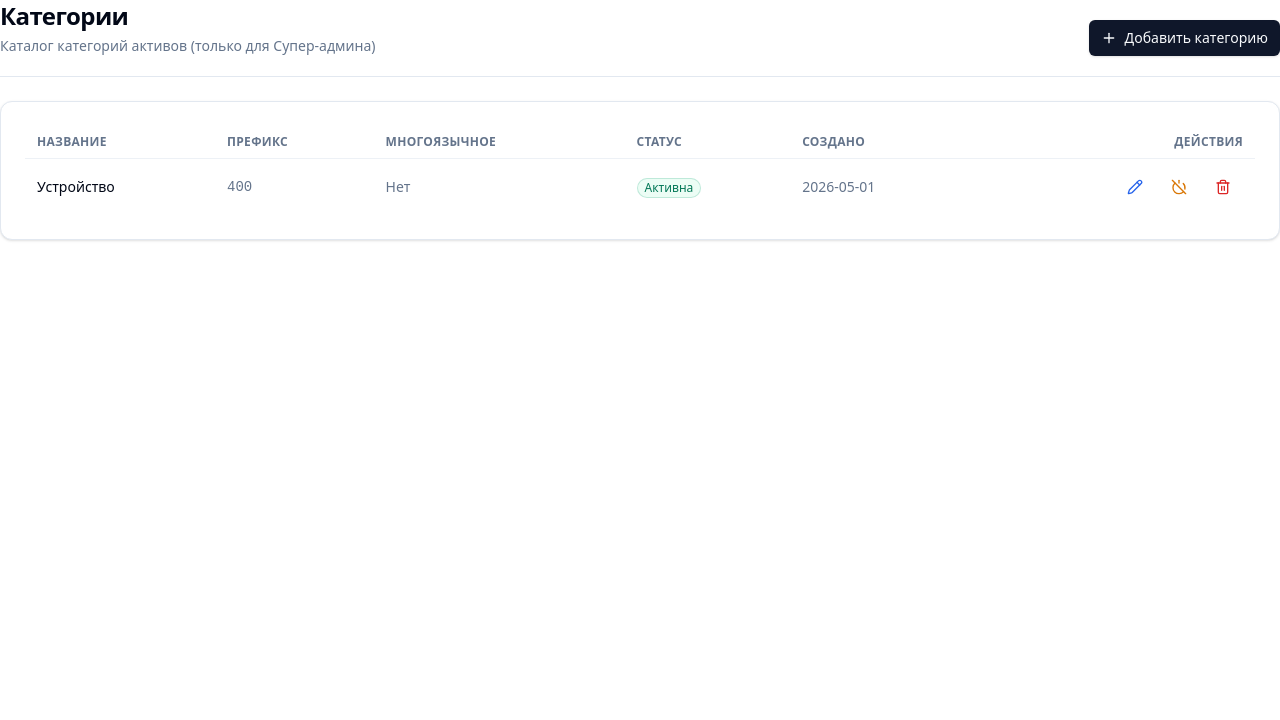
Test: CategoriesManagementPage › clicking the Delete icon opens the confirm modal with the localized title and body
The width and height of the screenshot is (1280, 720).
Check: the text "Устройство" is shown, box top-left (37, 177), bottom-right (115, 196)
Click the button named "Удалить" at (1223, 187), box top-left (1203, 167), bottom-right (1243, 207)
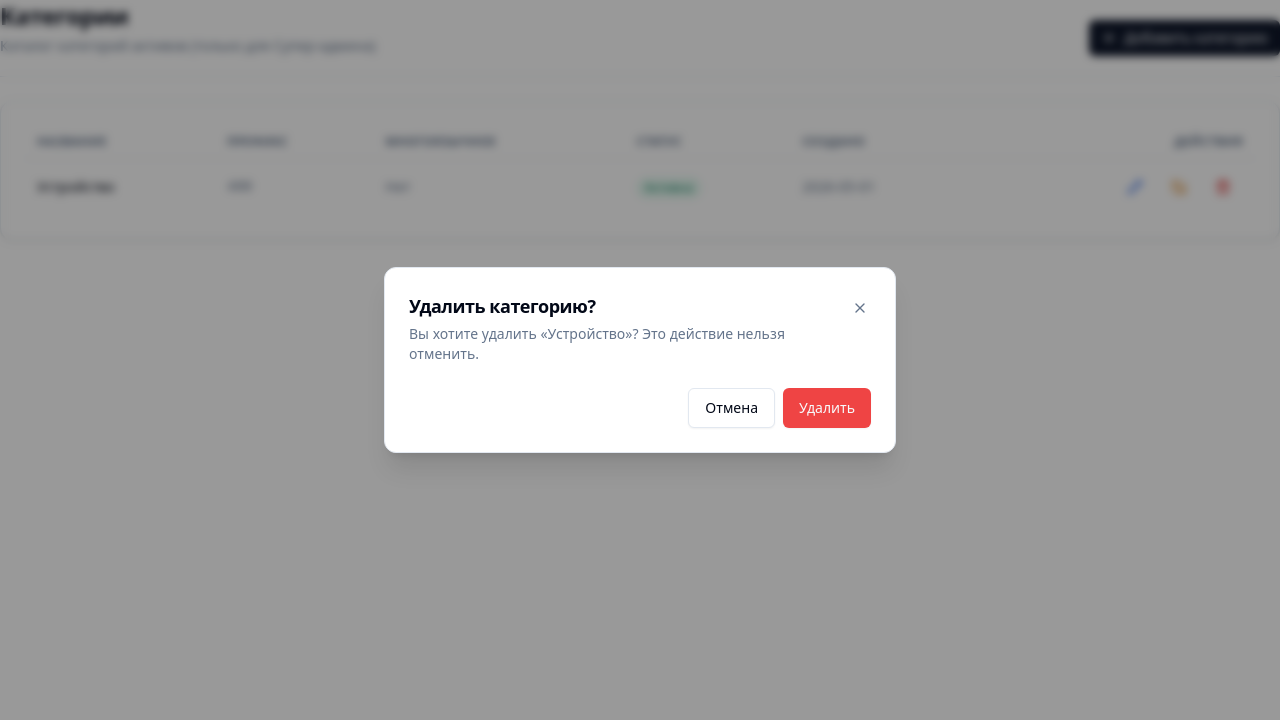
Check: the heading "Удалить категорию?" is shown, box top-left (409, 294), bottom-right (596, 318)
